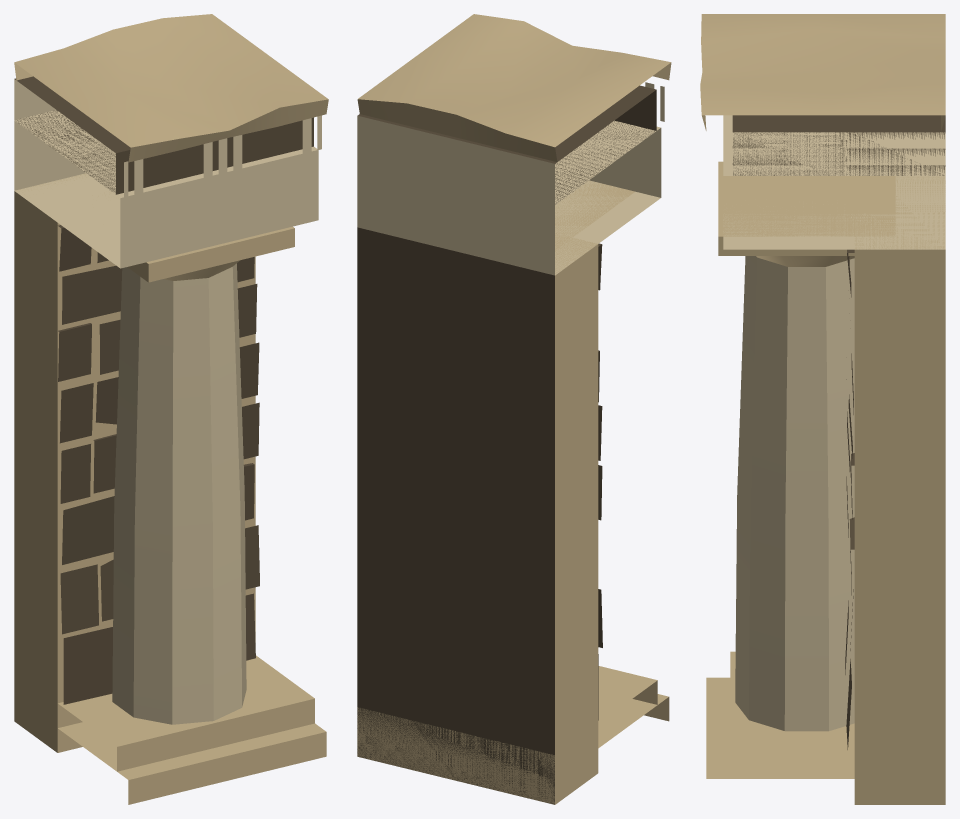
File: temple-straight.glb
3 views of the same model, side by side, from view 1: azimuth 30°, elevation 25°; view 2: azimuth 150°, elevation 25°; view 3: azimuth 270°, elevation 25° (orthographic). The views are drawn at different scales.
Visible parts, largest first — view 1: temple-straight; view 2: temple-straight; view 3: temple-straight.
Boxes of the visible parts, box(x1,y1,x2,y2) form: temple-straight: box(14, 14, 328, 804); temple-straight: box(357, 14, 671, 804); temple-straight: box(700, 14, 945, 804).
Size of the model in its own units: 1 by 3.22 by 1.03.
